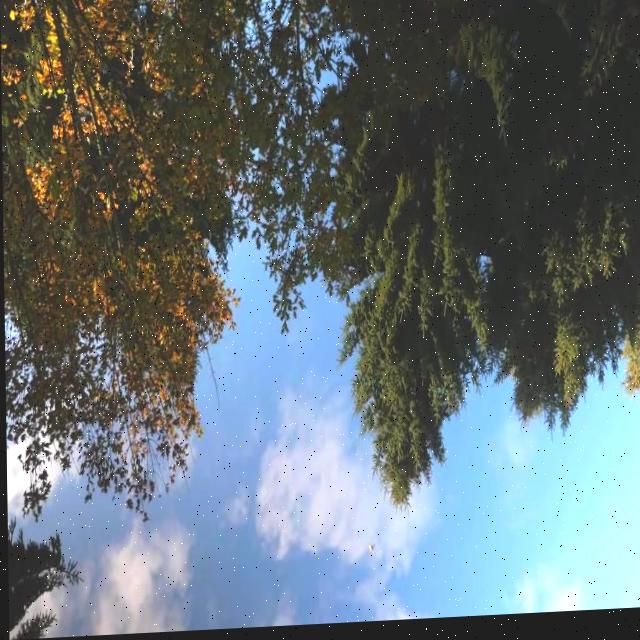drone: (365, 546, 374, 560)
